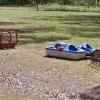Boat: (45, 39, 100, 68)
